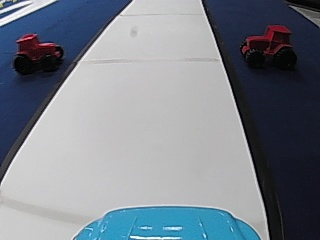tractor: (238, 22, 297, 71), (12, 30, 63, 75)
